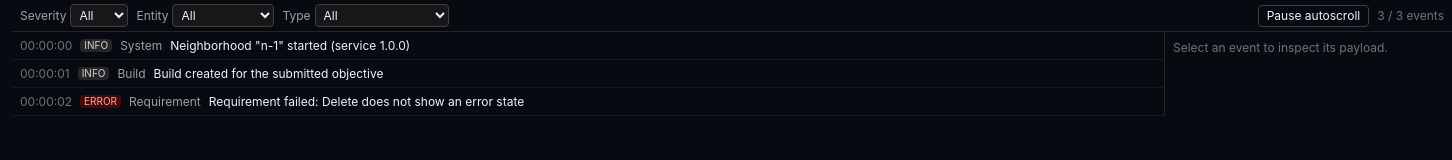
Test: EventTimeline — filtering › filters by entity type
Select "Build" in the dropdown named "Filter by entity type" at (224, 16), box 172,4 -> 274,27
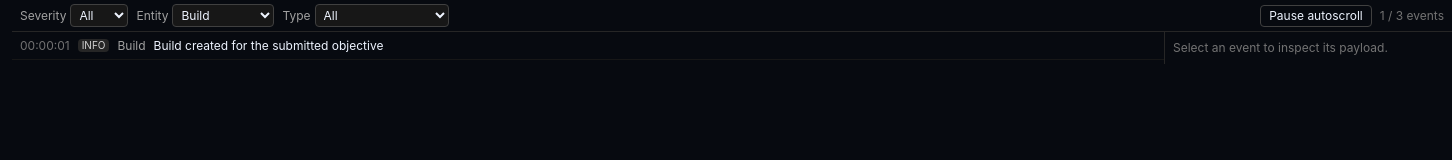
Expected: the button with test id "timeline-row" shows "Build created", 12,32 -> 1164,60
Expected: the number of buttons with test id "timeline-row" is 1, 12,32 -> 1164,60
